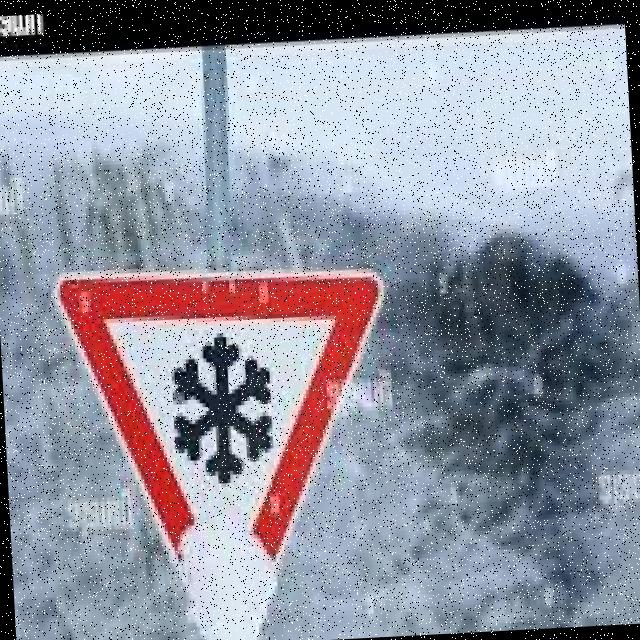snow_warning: (48, 255, 405, 640)
